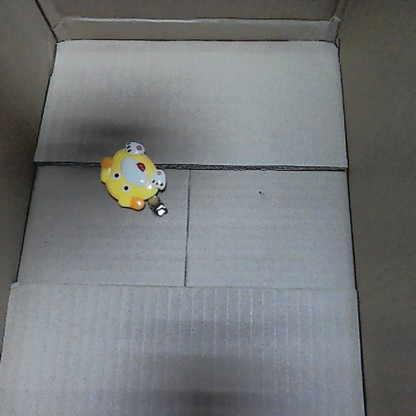dogclip: (96, 138, 169, 218)
